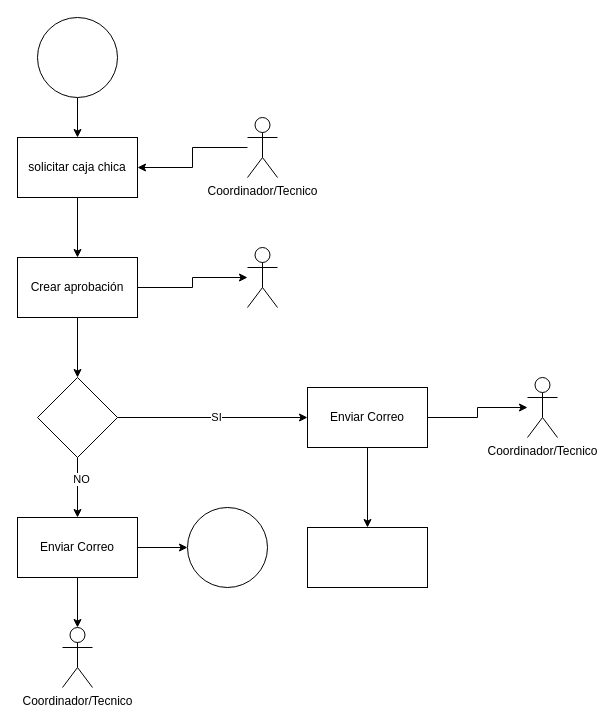
Image size: 615x726. Some labels were removed from this diagram. The centre of each missing label's shape, as x and y in pixels:
Crear un registro por liquidar: (367,557)
FIN: (227,547)
Inicio: (77,57)
Responsable Caja Chica Vane: (262,277)
